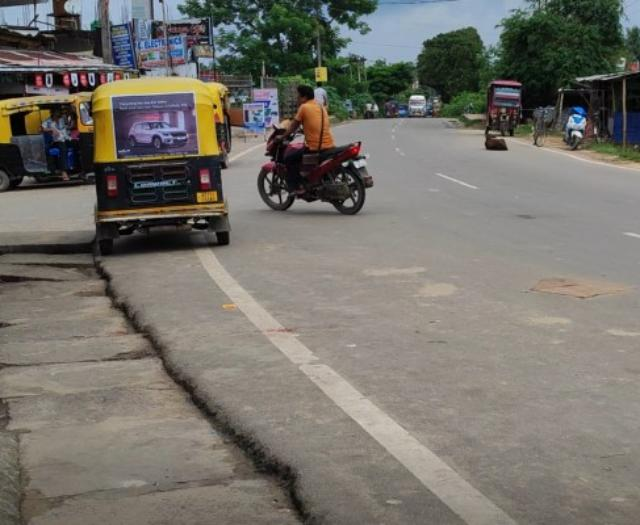licensePlate: (352, 159, 368, 169)
motorcycle: (256, 82, 376, 215)
withoutHelmet: (296, 84, 315, 106)
